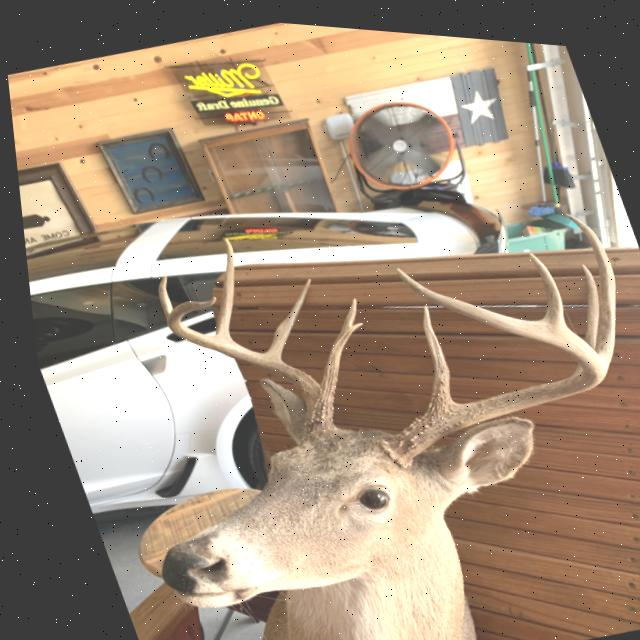E1: (344, 317, 356, 327)
E2: (152, 271, 166, 317)
L-F: (160, 293, 329, 438)
L-G1: (308, 291, 350, 403)
L-G2: (256, 273, 305, 356)
L-G3: (207, 234, 228, 336)
R-F: (369, 261, 601, 461)
R-G1: (416, 297, 450, 405)
R-G3: (560, 202, 610, 357)
R-G4: (523, 243, 561, 318)
